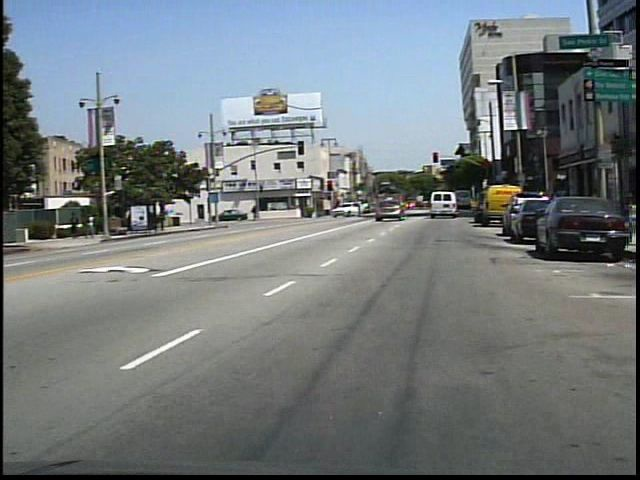person: (88, 209, 105, 243), (254, 196, 269, 224), (73, 212, 87, 239)
